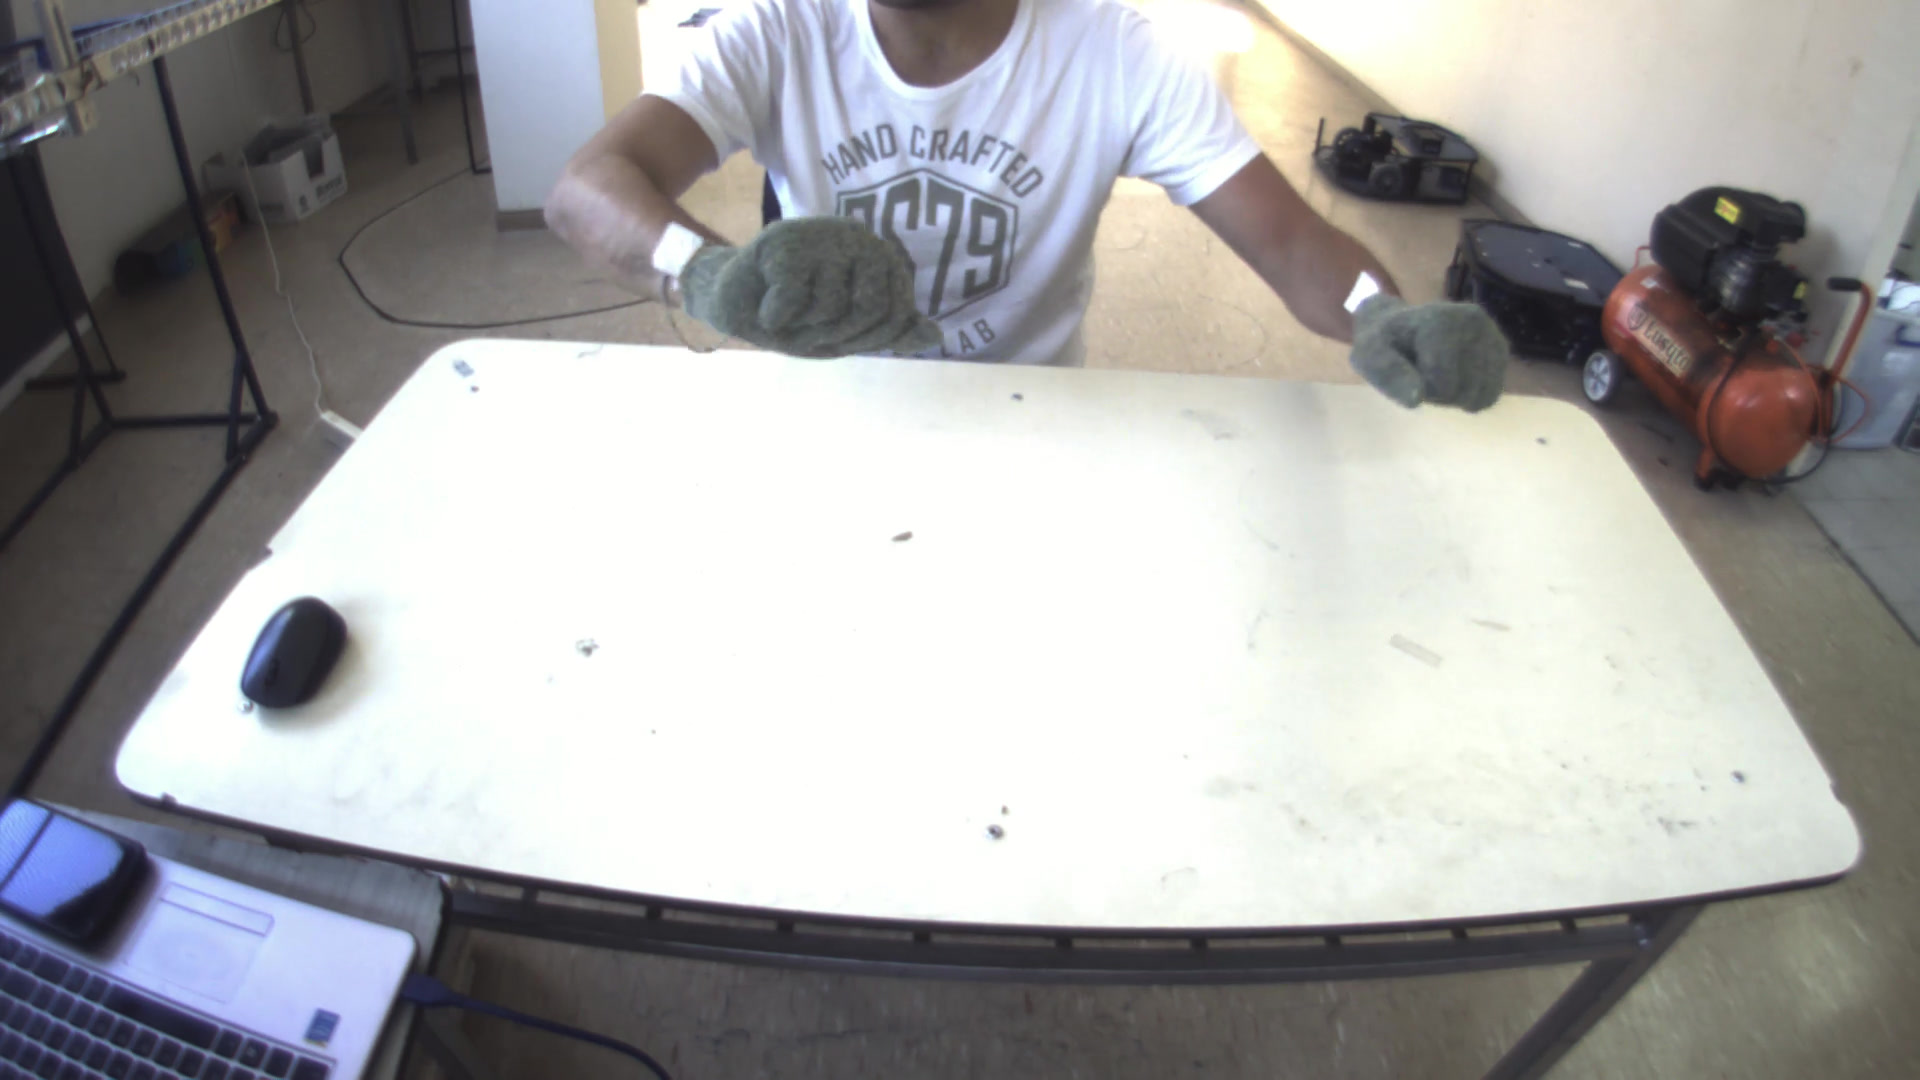hand: (665, 202, 943, 363), (1346, 280, 1524, 413)
